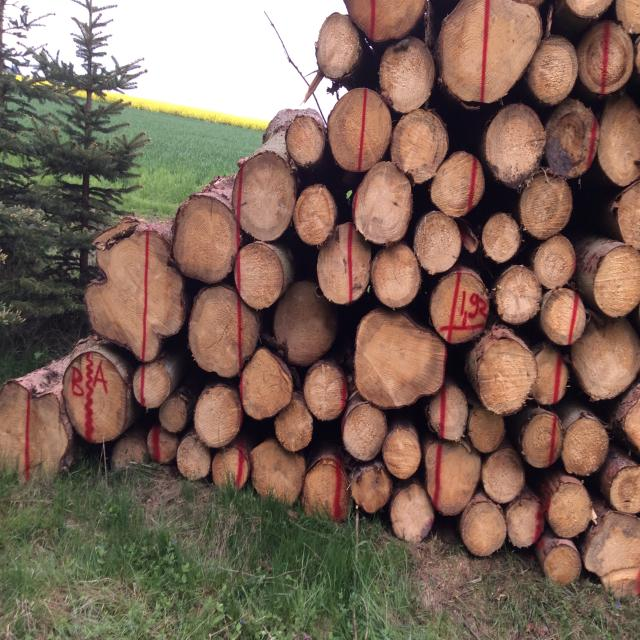wood-log: (86, 228, 186, 357), (442, 2, 544, 106), (354, 308, 445, 408), (0, 382, 74, 475), (61, 351, 132, 443), (189, 286, 258, 378), (175, 197, 242, 283), (234, 155, 297, 245), (274, 282, 338, 369), (470, 329, 536, 413), (329, 87, 394, 172), (570, 321, 638, 401), (482, 102, 546, 185), (353, 162, 415, 245), (428, 268, 489, 344), (319, 225, 374, 308), (544, 101, 598, 184), (390, 110, 448, 186), (576, 20, 632, 96), (424, 442, 481, 516), (582, 242, 638, 317), (377, 38, 433, 112), (580, 512, 638, 582), (237, 347, 292, 418), (428, 152, 486, 219), (599, 92, 640, 186), (528, 36, 582, 106), (520, 171, 574, 240), (253, 440, 307, 505), (370, 244, 422, 310), (236, 244, 287, 311), (192, 383, 244, 447), (345, 0, 428, 40), (412, 210, 463, 273), (318, 14, 364, 82), (300, 459, 351, 520), (493, 265, 542, 324), (546, 478, 594, 537), (561, 414, 608, 474), (540, 287, 589, 344), (389, 485, 436, 544), (301, 359, 347, 419), (341, 401, 387, 460), (292, 183, 335, 246), (462, 500, 508, 556), (425, 384, 468, 443), (522, 409, 564, 468), (481, 446, 525, 502), (530, 346, 569, 406), (533, 237, 577, 290), (274, 397, 314, 452), (481, 210, 523, 262), (286, 116, 326, 168), (506, 496, 545, 548), (382, 428, 421, 480), (352, 464, 392, 514), (211, 446, 251, 495), (132, 362, 172, 410), (468, 406, 505, 453), (543, 544, 581, 587), (178, 435, 212, 481), (108, 434, 148, 473), (618, 182, 640, 252), (612, 465, 640, 515), (147, 423, 177, 462), (159, 396, 188, 434), (623, 391, 640, 454), (564, 0, 614, 19), (615, 0, 640, 34), (143, 326, 160, 363), (514, 0, 544, 8)
